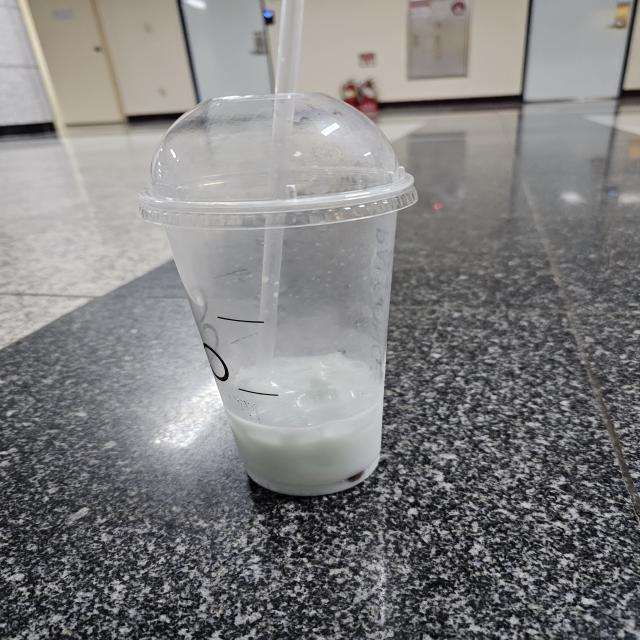cup: (128, 80, 424, 500)
